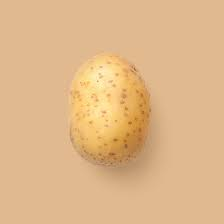potato: (66, 43, 154, 171)
